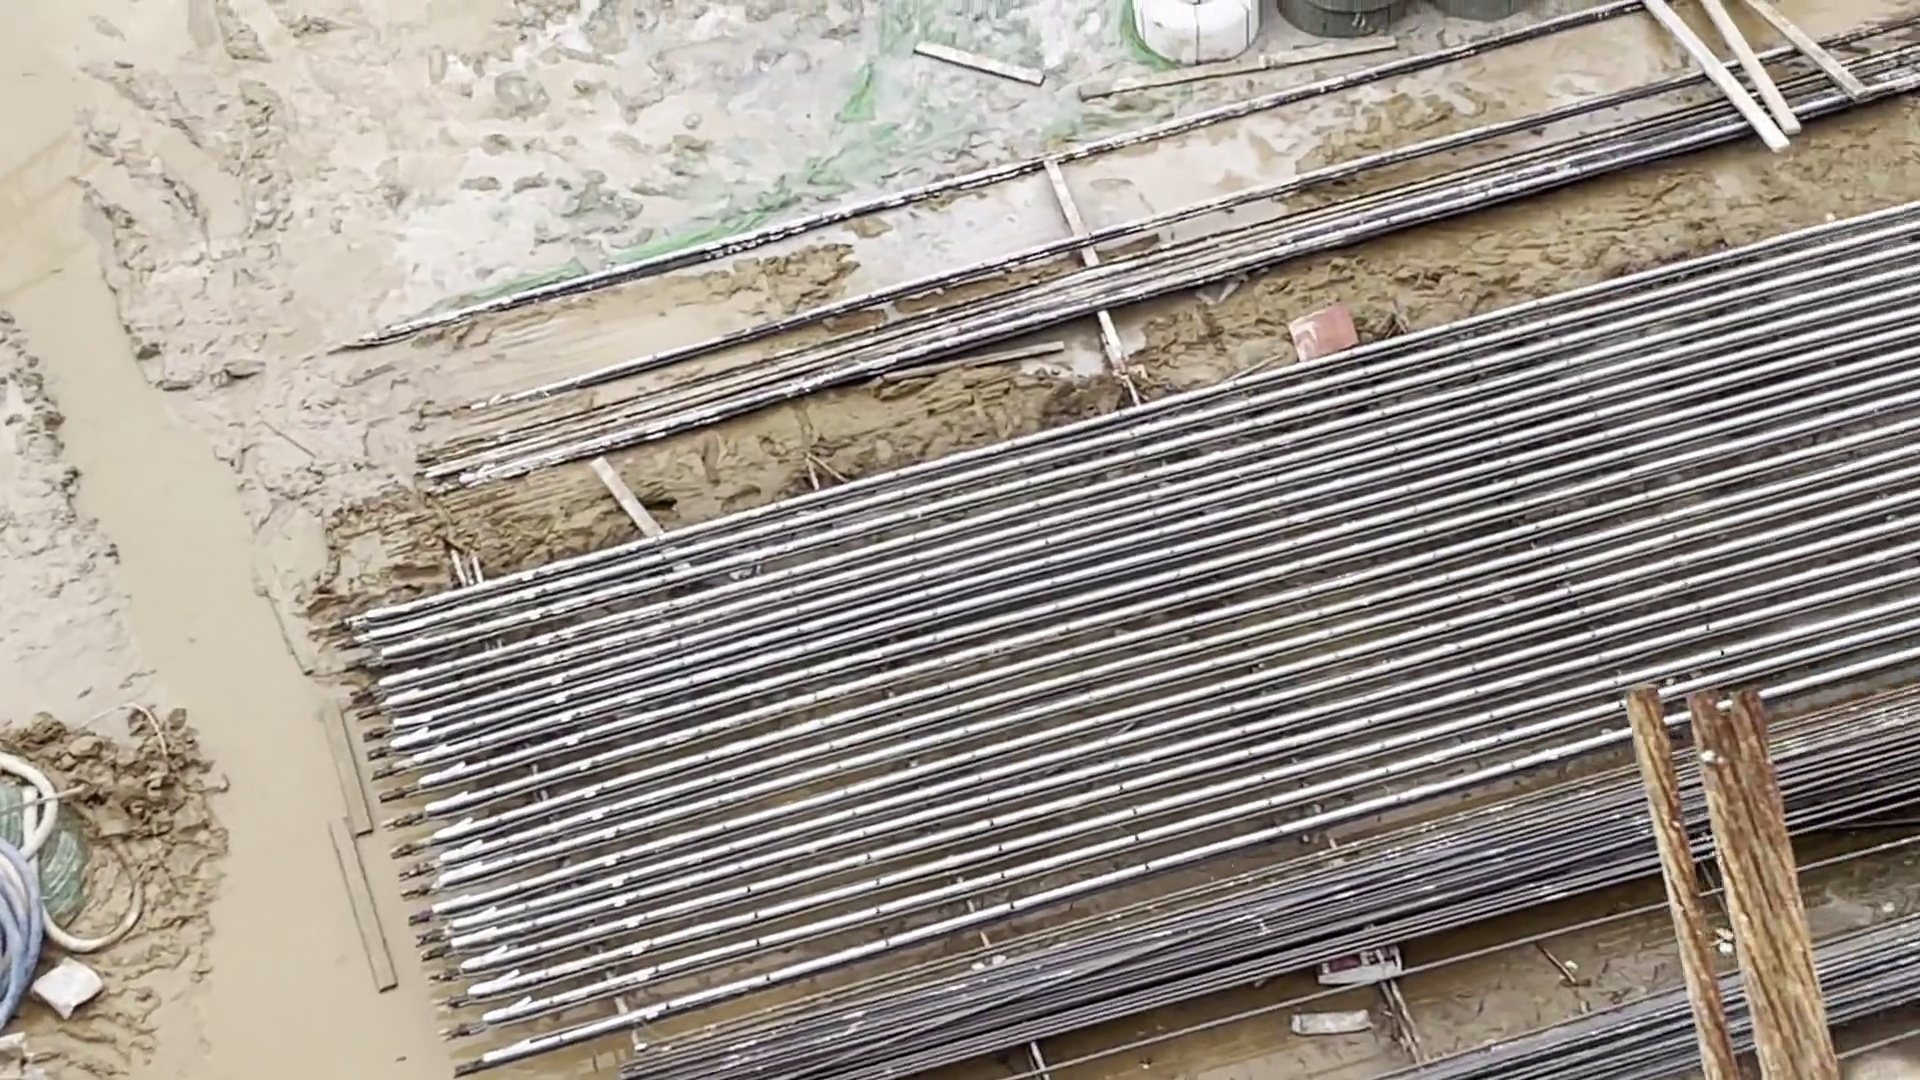rebar: (646, 740, 1920, 1080)
